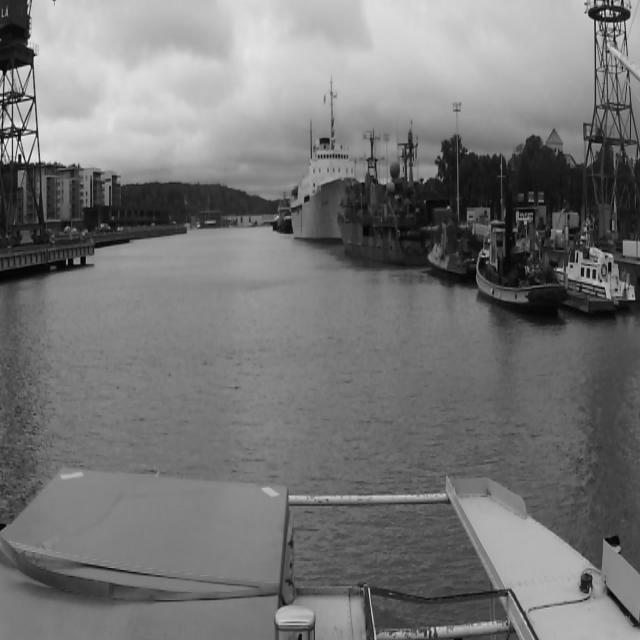ship: (478, 150, 568, 316), (338, 127, 426, 269), (290, 76, 339, 242), (548, 230, 630, 306), (429, 214, 475, 276)
